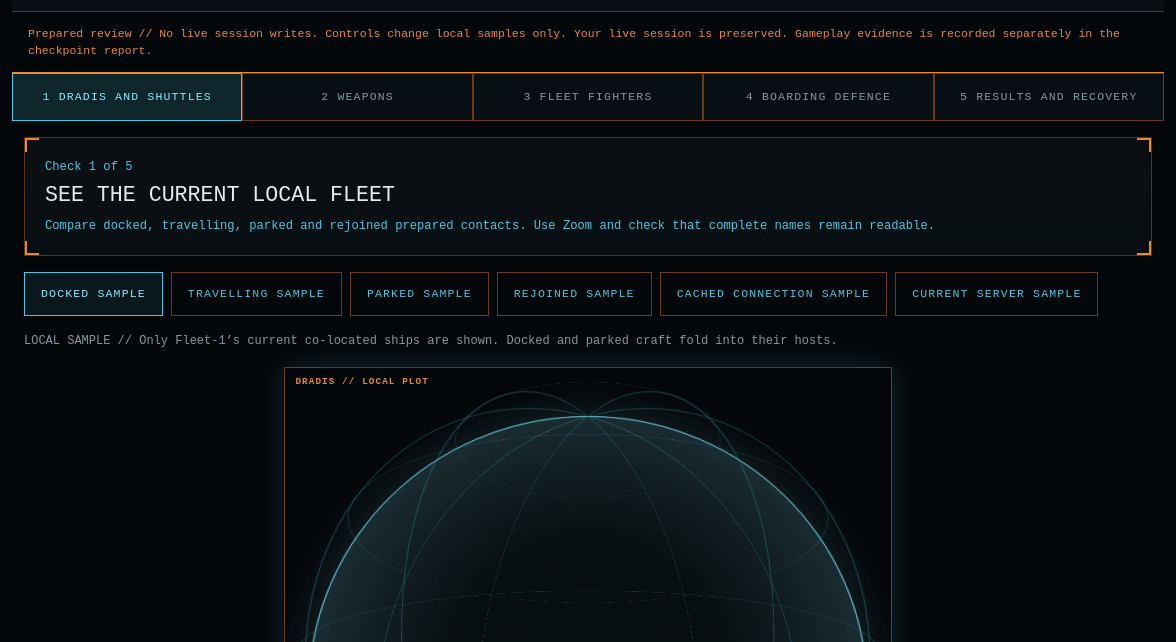
shows committed boarding through the real crew presenter without accepting a second local choice
Click the button "4 Boarding defence": (818, 97) top-left (703, 73), bottom-right (934, 121)
(page scrolled)
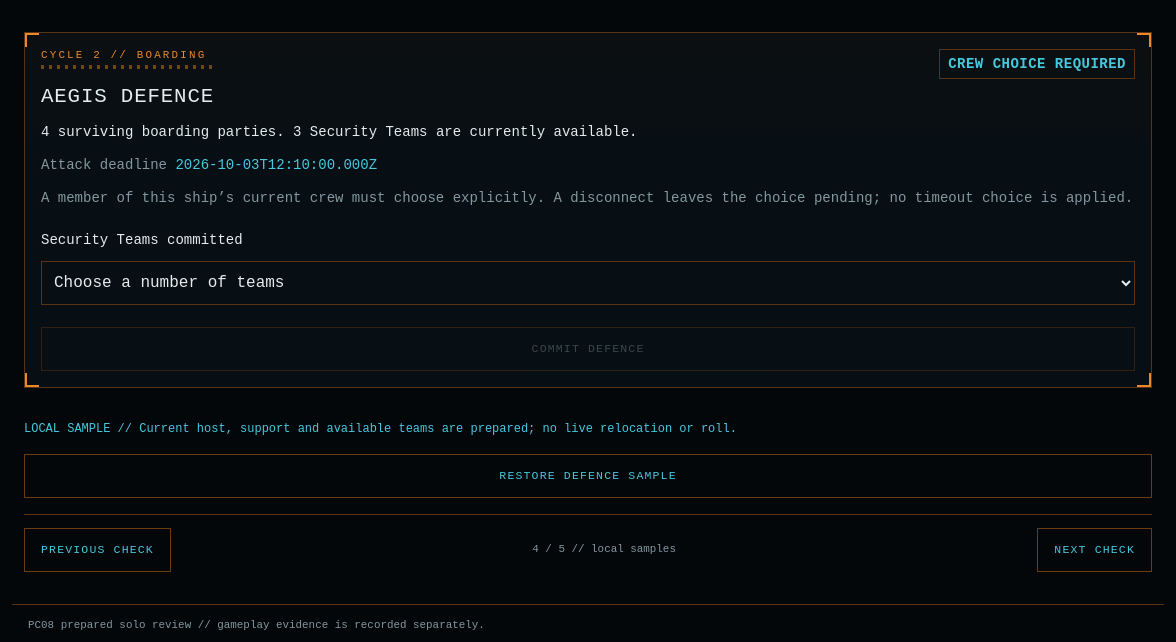
Select "2 teams" in the dropdown labelled "Security Teams committed": (588, 283) top-left (41, 261), bottom-right (1135, 305)
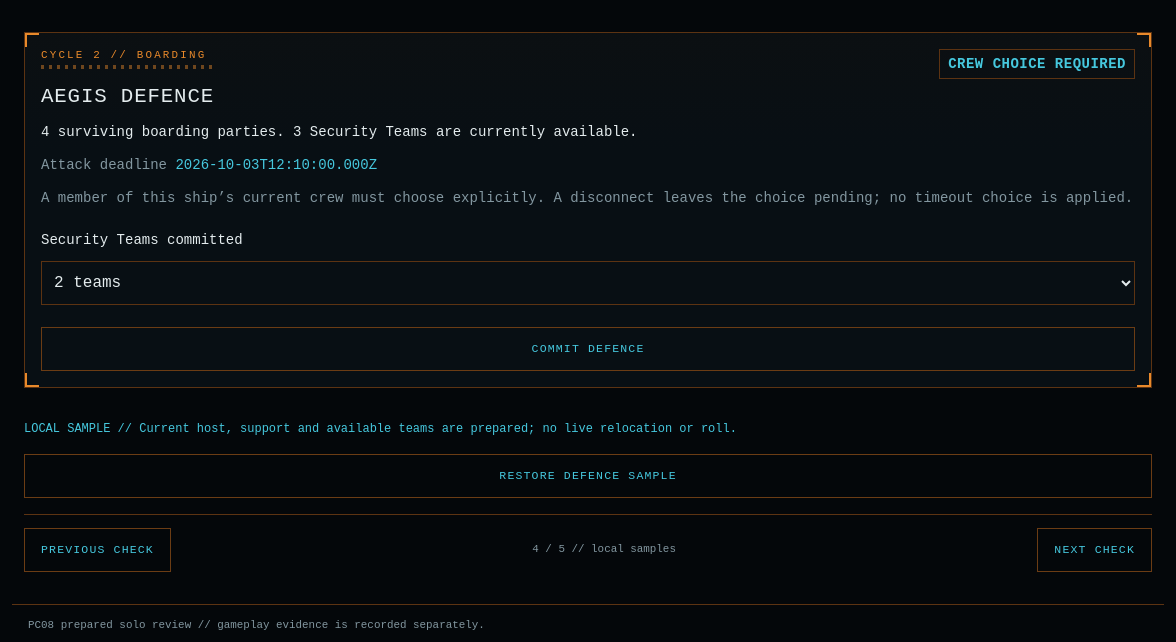
Click the button "Commit defence": (588, 349) top-left (41, 327), bottom-right (1135, 371)
(page scrolled)
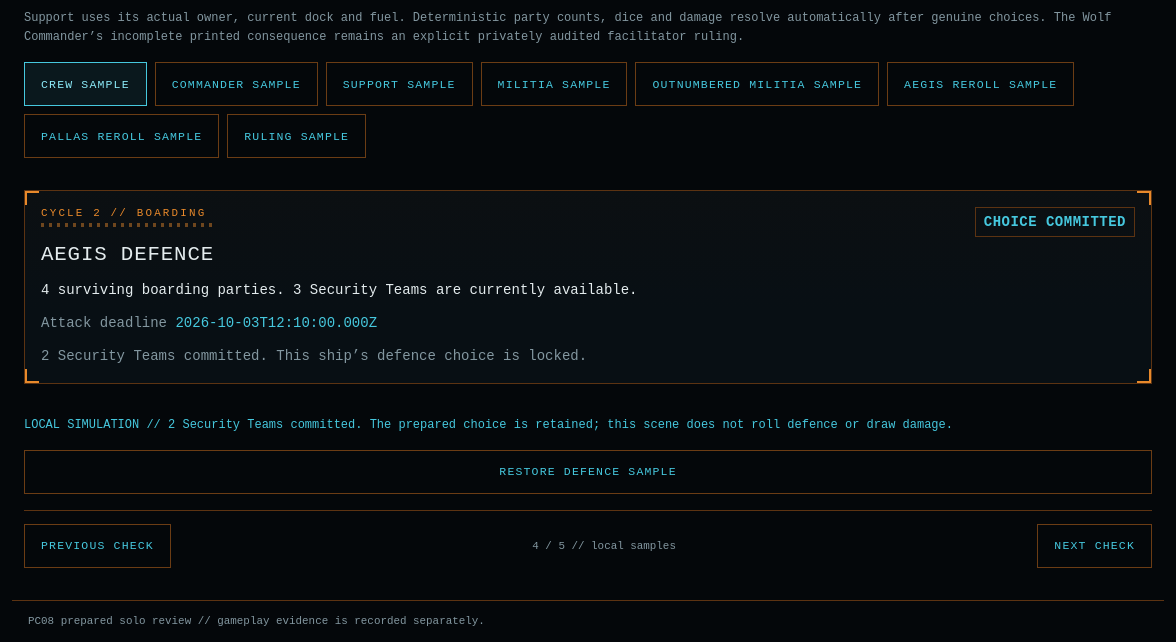
Check: the message named "Prepared boarding result" shows "2 Security Teams", box top-left (24, 418), bottom-right (953, 432)
Check: the button "Commit defence" is gone
